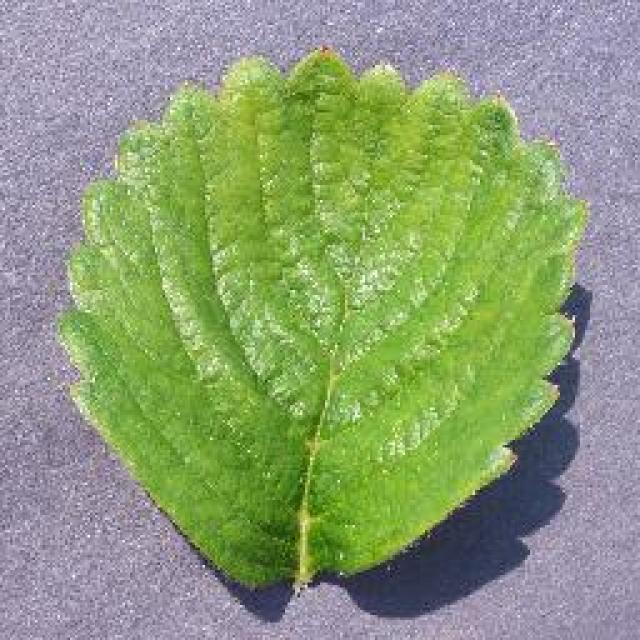Straw_healthy: (96, 75, 528, 559)
